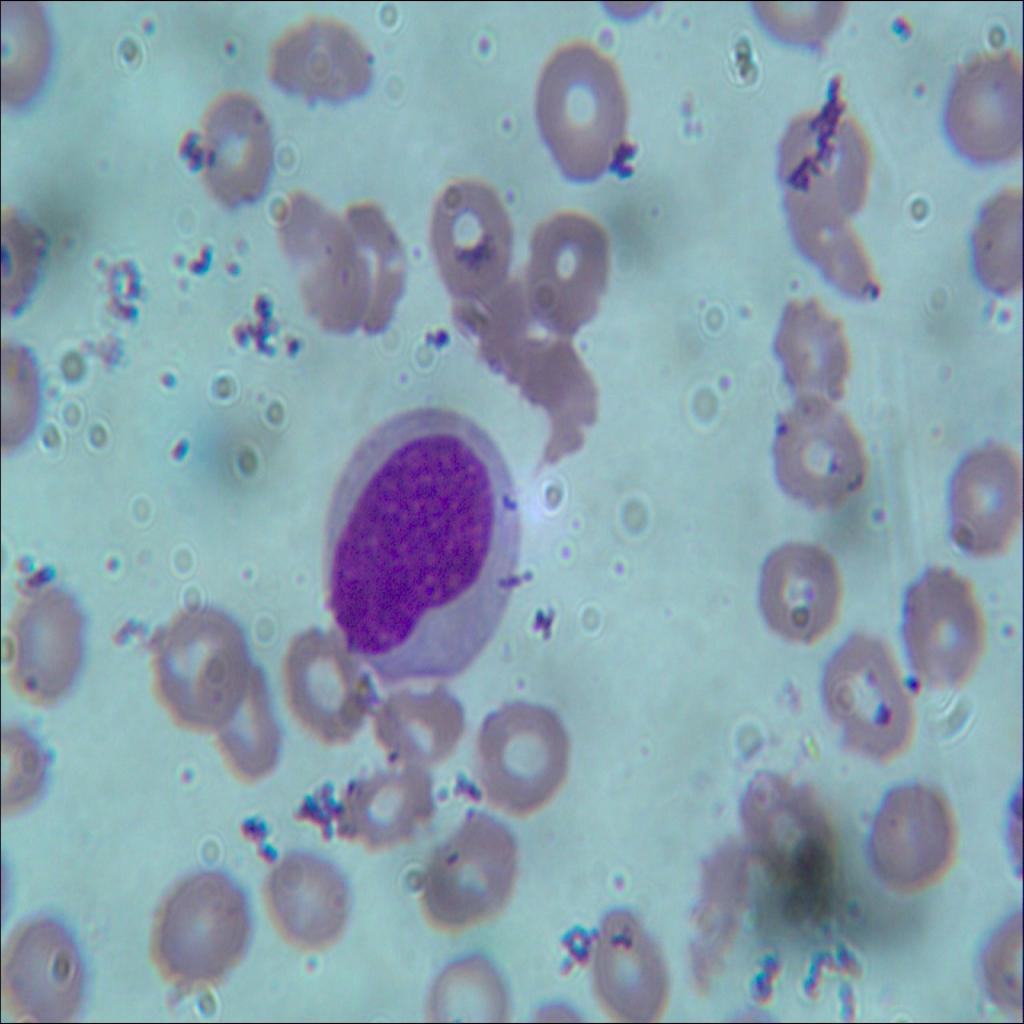Eritrosit: (260, 172, 366, 328), (408, 804, 528, 925), (533, 40, 628, 186), (150, 600, 250, 730), (152, 861, 254, 982), (815, 627, 918, 746), (766, 396, 871, 509), (484, 284, 578, 407), (4, 585, 98, 705), (278, 619, 368, 742), (329, 201, 409, 339), (776, 102, 868, 221), (582, 899, 670, 1023), (898, 565, 986, 688), (734, 768, 834, 876), (751, 534, 844, 648), (471, 704, 569, 811), (194, 88, 278, 211), (424, 182, 511, 298), (200, 662, 282, 782), (868, 778, 955, 890), (266, 17, 375, 106), (942, 46, 1023, 165), (361, 681, 466, 772), (526, 215, 606, 334), (942, 440, 1023, 556), (343, 755, 435, 851), (770, 301, 853, 407), (6, 914, 88, 1015), (260, 849, 346, 942), (958, 185, 1024, 289), (424, 950, 510, 1023)
Limfoblast: (311, 399, 529, 682)
Platelet: (484, 98, 524, 144), (590, 8, 626, 58), (898, 666, 933, 710), (706, 365, 744, 405), (870, 698, 902, 741), (216, 25, 244, 65), (156, 358, 184, 398), (902, 75, 931, 112), (98, 548, 126, 586), (606, 859, 631, 897), (222, 248, 248, 282), (998, 605, 1020, 645), (472, 28, 502, 54), (281, 332, 310, 358), (134, 10, 159, 40), (174, 268, 198, 298), (169, 242, 190, 269)
